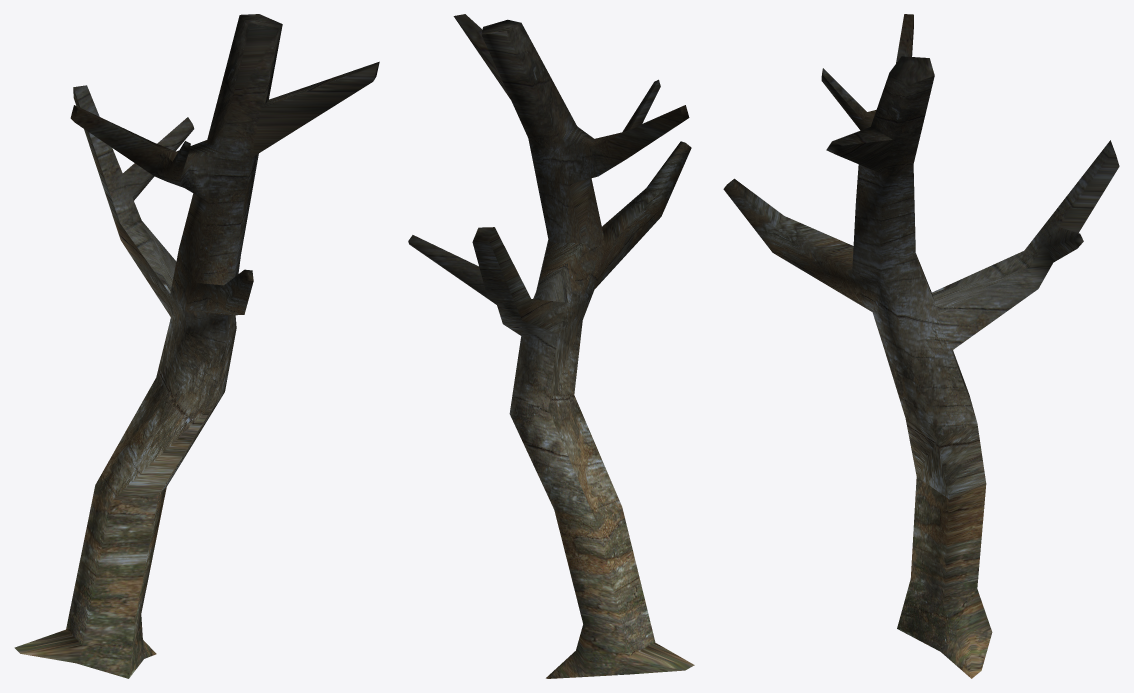
File: PinoOscuro.fbx
The picture shows the model from 3 angles, left to right: view 1: azimuth 30°, elevation 25°; view 2: azimuth 150°, elevation 25°; view 3: azimuth 270°, elevation 25°; orthographic projection. The views are drawn at different scales.
Parts seen in each view (by area): view 1: Arbol3; view 2: Arbol3; view 3: Arbol3.
Part boxes in pixels (x1=…): Arbol3: x1=14, y1=14, x2=379, y2=678; Arbol3: x1=408, y1=14, x2=694, y2=678; Arbol3: x1=723, y1=14, x2=1119, y2=678.
Bounding box in the file's own units: 60.34 × 121 × 66.6.
Materials: 1 (1 with a texture image).
